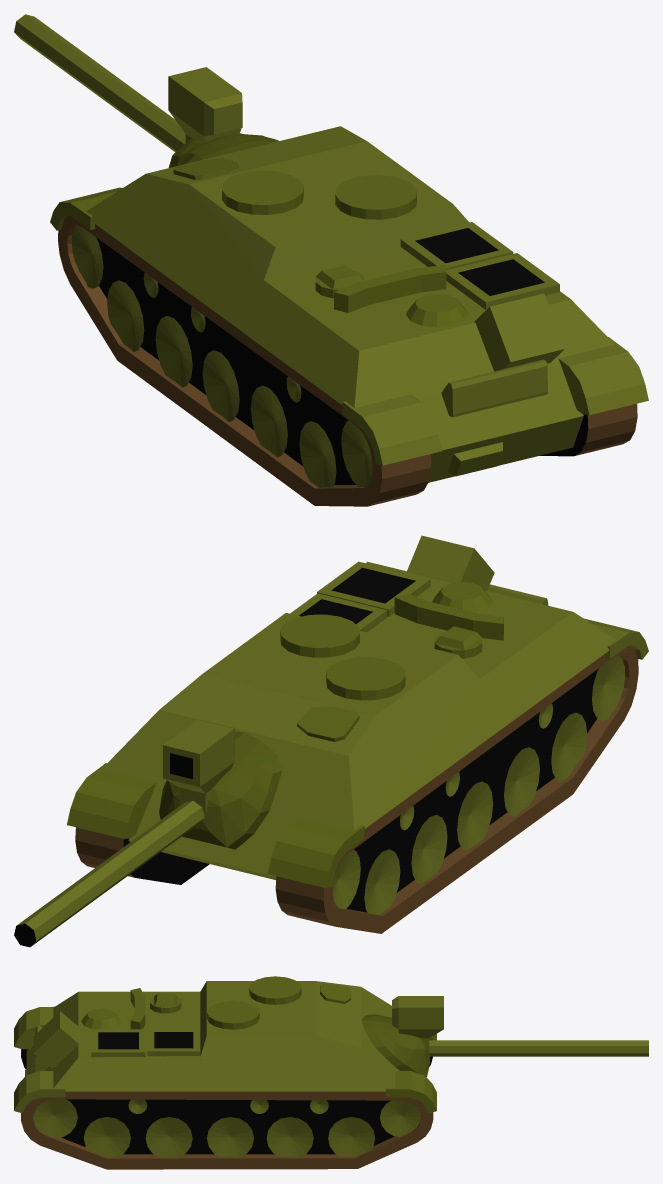
File: kanone.glb
3 renders of one model, top to bottom at view 1: azimuth 30°, elevation 25°; view 2: azimuth 150°, elevation 25°; view 3: azimuth 270°, elevation 25°, orthographic. The views are drawn at different scales.
Visible parts, largest first — view 1: hull.002; view 2: hull.002; view 3: hull.002.
Boxes of the visible parts, bbox=[...] form: hull.002: bbox=[14, 14, 648, 506]; hull.002: bbox=[14, 535, 648, 947]; hull.002: bbox=[14, 976, 648, 1169].
Size of the model in its own units: 0.3075 by 0.2281 by 1.
